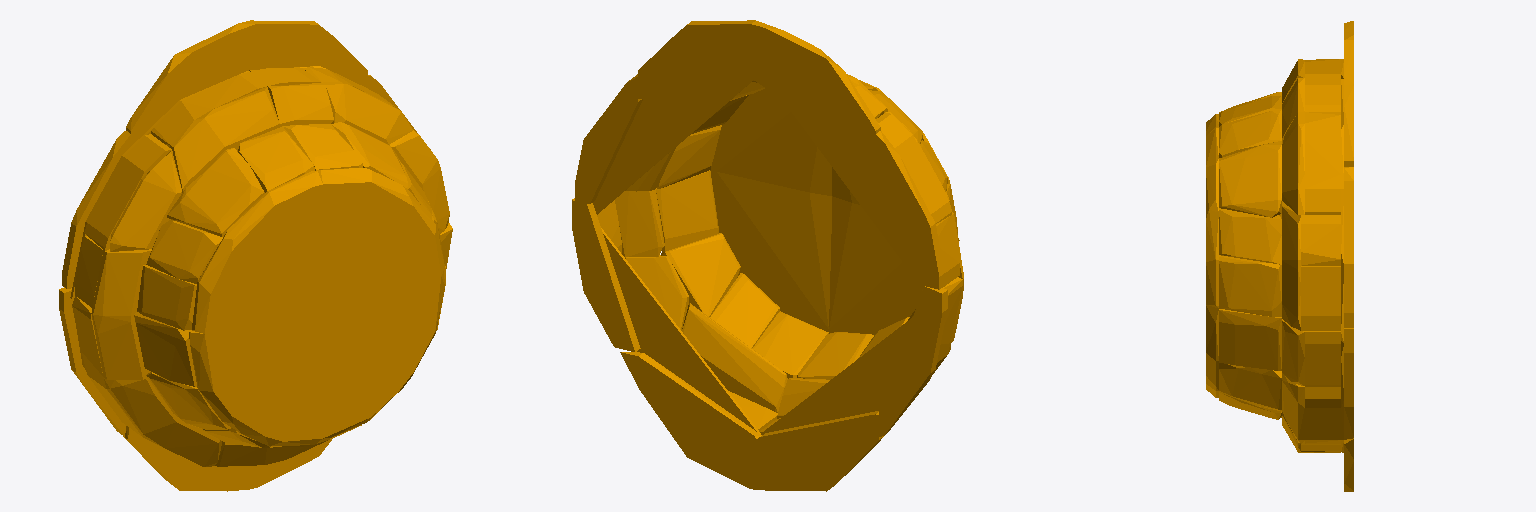
The robot description file, URDF, robot "green_bowl":
<?xml version="1.0"?>

<robot name="green_bowl">
  <link name="green_bowl_frame">
    <visual>
      <geometry>
        <mesh filename="package://iai_kitchen/meshes/racks/BoxyToolholder/green_bowl.obj"/>
      </geometry>
    </visual>
  </link>
</robot>

--- What the picture shows (computed from the rendered views, not written in the file) ---
3 views of the same robot in one strip: view 1: azimuth 30°, elevation 25°; view 2: azimuth 150°, elevation 25°; view 3: azimuth 270°, elevation 25° (orthographic).
Robot: green_bowl — 1 links, 0 joints (none); root link green_bowl_frame; default pose: all joints at 0.
Visible links, largest first — view 1: green_bowl_frame; view 2: green_bowl_frame; view 3: green_bowl_frame.
Link boxes in pixels (x1,y1,x2,y2): green_bowl_frame: (59,20,452,491); green_bowl_frame: (572,20,963,491); green_bowl_frame: (1206,21,1353,491).
Bounding box of the posed robot: 0.24 × 0.0885 × 0.2873 m (x, y, z).
Meshes: 1 distinct files referenced, 1 mesh visuals loaded (1 OBJ).